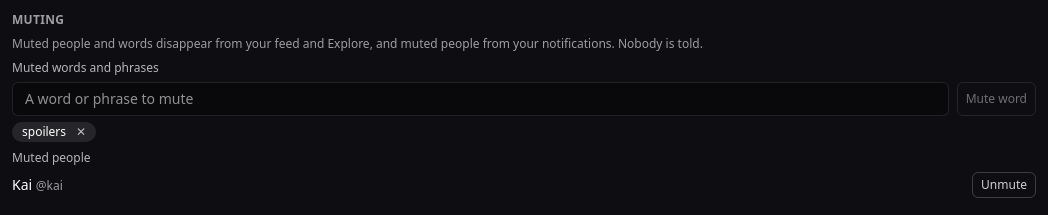
Test: MuteSettings › removes a word
This screenshot has width=1048, height=215.
Click the button named "Stop muting spoilers" at [81, 132], box [70, 124, 92, 140]
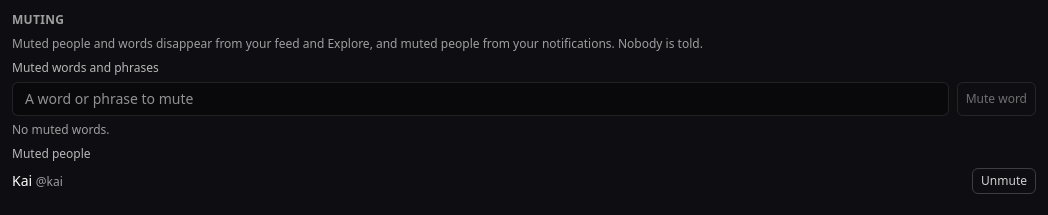
Now the text "spoilers" is gone
